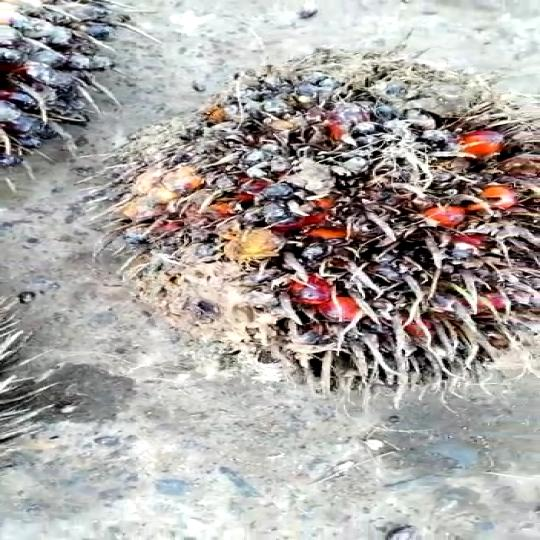terlalu masak: (142, 59, 540, 406)
